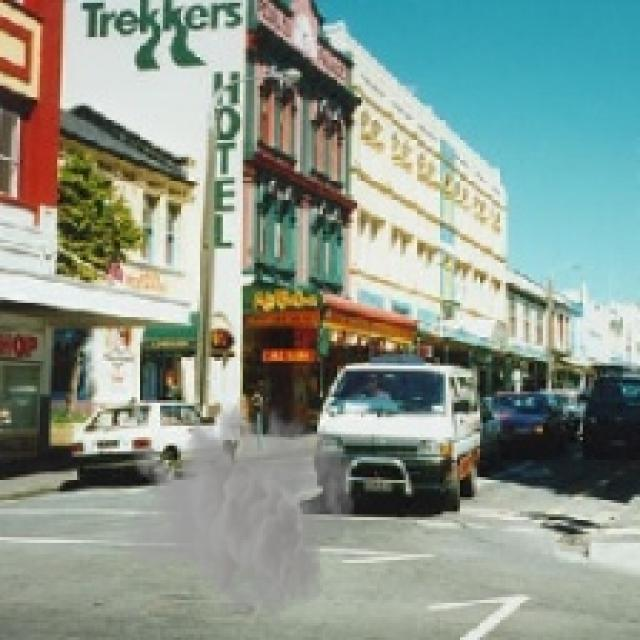smoke: (123, 383, 357, 628)
